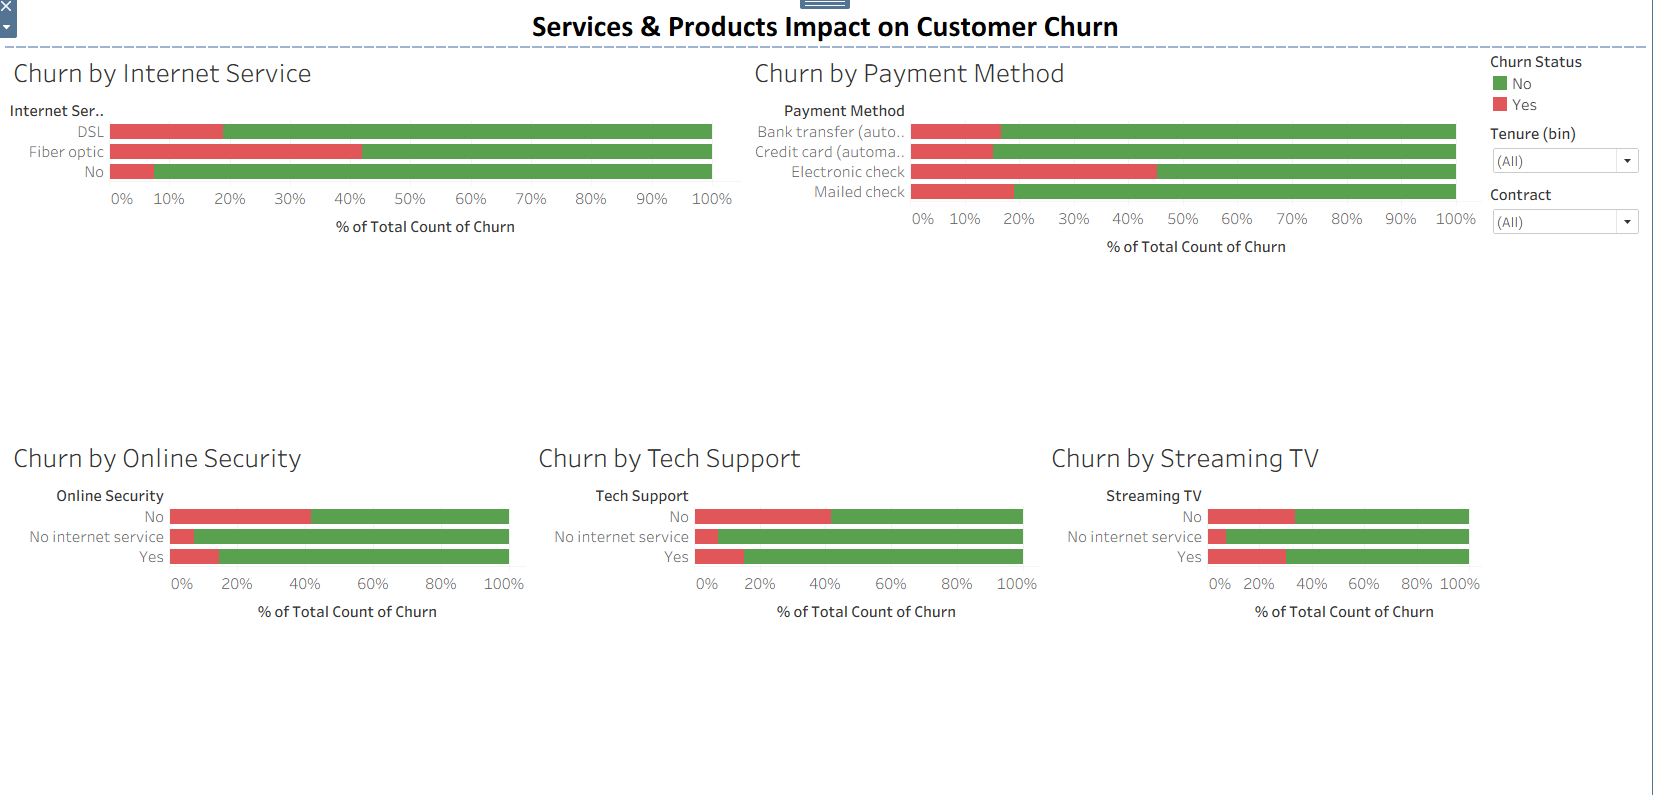

This screenshot's page, from the dashboard's own definition file:
{"tool":"tableau","page":{"name":"Services & Products Dashboard","canvas":[1000,1000],"units":"permille","ordinal":3},"visuals":[{"type":"text","box":[4.8,10,990.3,53.7]},{"type":"worksheet","title":"Churn by Internet Service","mark":"Automatic","rows":["InternetService"],"box":[4.8,63.7,446.9,480.3]},{"type":"worksheet","title":"Churn by Payment Method","mark":"Bar","rows":["PaymentMethod"],"box":[451.7,63.7,446.9,480.3]},{"type":"legend","title":"Churn by Internet Service","param":"[federated.1h76gci1q36jpl1ed8xuy0itcxqn].[none:Calculation_1668302235085369344:n","box":[898.6,63.7,96.6,89.9]},{"type":"filter","title":"Churn by Payment Method","param":"[federated.1h76gci1q36jpl1ed8xuy0itcxqn].[none:Tenure (bin):ok]","box":[898.6,153.6,96.6,76.2]},{"type":"filter","title":"Churn by Payment Method","param":"[federated.1h76gci1q36jpl1ed8xuy0itcxqn].[none:Contract:nk]","box":[898.6,229.7,96.6,76.2]},{"type":"worksheet","title":"Churn by Online Security","mark":"Bar","rows":["OnlineSecurity"],"box":[4.8,544,316.8,446.1]},{"type":"worksheet","title":"Churn by Tech Support","mark":"Bar","rows":["TechSupport"],"box":[321.7,544,309.6,446.1]},{"type":"worksheet","title":"Churn by Streaming TV","mark":"Bar","rows":["StreamingTV"],"box":[631.3,544,267.4,446.1]}]}

Visuals, with their boxes on the dashboard's canvas, which has no fixed pixel size, in thousandths of its width and height (x1, y1, x2, y2). These are canvas units, not pixel positions in the 1653x795 screenshot, which may show the page scaled, cropped or inside an application window:
text: {"x1": 5, "y1": 10, "x2": 995, "y2": 64}
"Churn by Internet Service" worksheet: {"x1": 5, "y1": 64, "x2": 452, "y2": 544}
"Churn by Payment Method" worksheet (Bar marks): {"x1": 452, "y1": 64, "x2": 899, "y2": 544}
"Churn by Internet Service" legend: {"x1": 899, "y1": 64, "x2": 995, "y2": 154}
"Churn by Payment Method" filter: {"x1": 899, "y1": 154, "x2": 995, "y2": 230}
"Churn by Payment Method" filter: {"x1": 899, "y1": 230, "x2": 995, "y2": 306}
"Churn by Online Security" worksheet (Bar marks): {"x1": 5, "y1": 544, "x2": 322, "y2": 990}
"Churn by Tech Support" worksheet (Bar marks): {"x1": 322, "y1": 544, "x2": 631, "y2": 990}
"Churn by Streaming TV" worksheet (Bar marks): {"x1": 631, "y1": 544, "x2": 899, "y2": 990}
